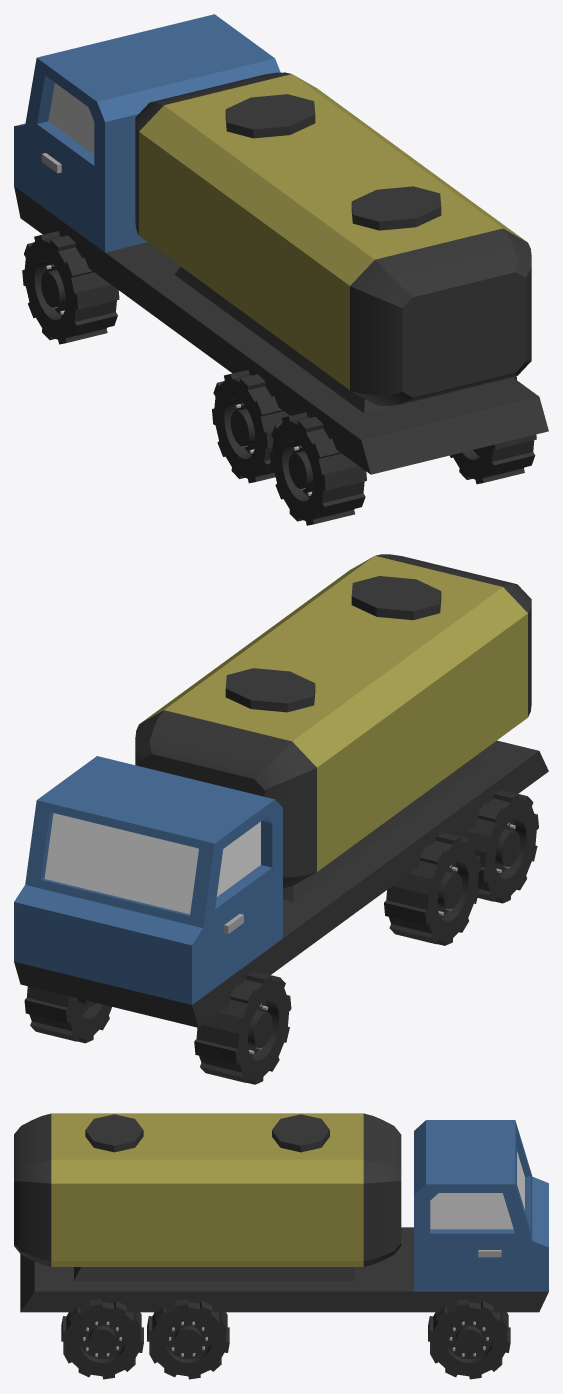
The model's file is caminhao.fbx.
3 views of the same model, one above another, from view 1: azimuth 30°, elevation 25°; view 2: azimuth 150°, elevation 25°; view 3: azimuth 270°, elevation 25° (orthographic). The views are drawn at different scales.
Parts seen in each view (by area): view 1: caminhao1; view 2: caminhao1; view 3: caminhao1.
Boxes of the visible parts, <box> form: caminhao1: <box>14,14,548,525</box>; caminhao1: <box>14,554,548,1084</box>; caminhao1: <box>14,1113,548,1379</box>.
Size of the model in its own units: 285 by 369 by 846.
